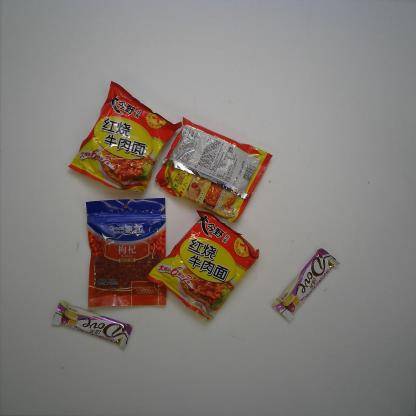Chocolate: (272, 247, 340, 322), (51, 298, 133, 351)
Dried Fruit: (85, 197, 167, 308)
Instant Noodles: (67, 80, 182, 195), (154, 116, 274, 223), (146, 209, 260, 320)
